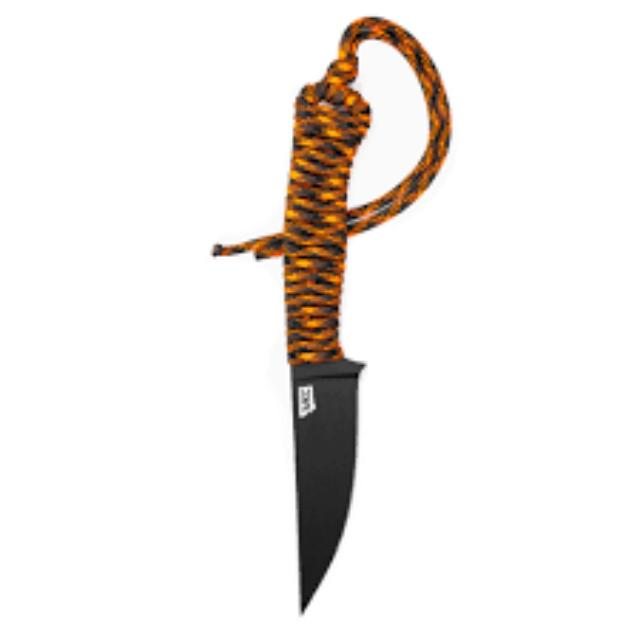Knife: (282, 62, 370, 614), (288, 356, 364, 614)
